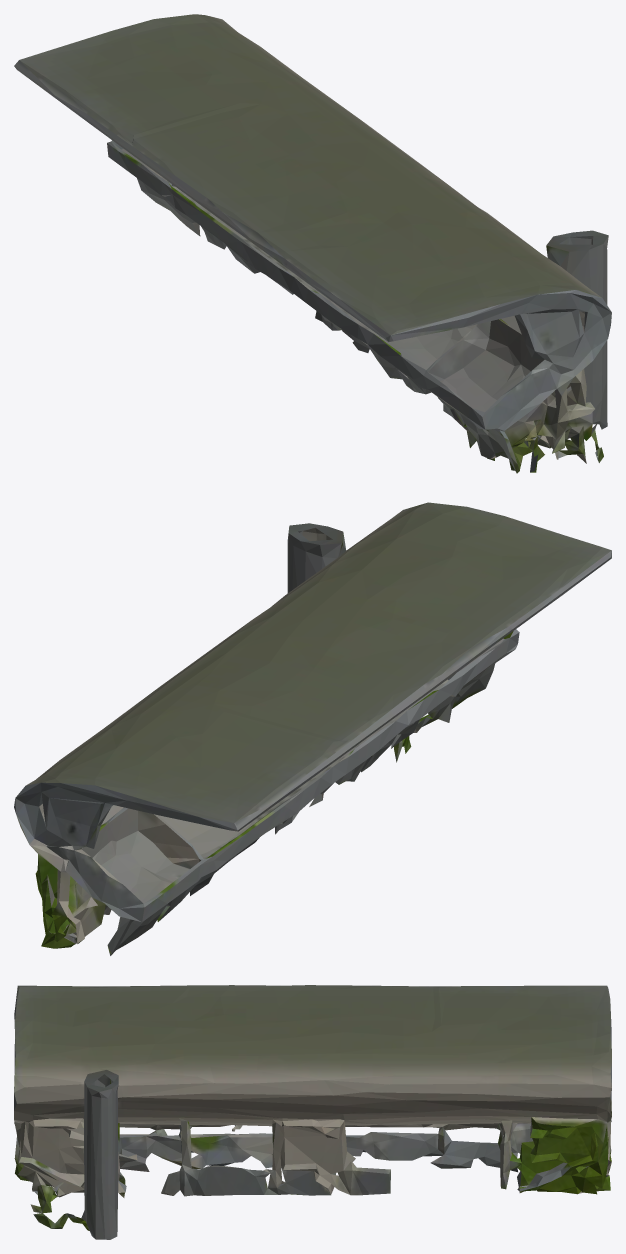
File: tribuna_catalunya.glb
The picture shows the model from 3 angles, top to bottom: view 1: azimuth 30°, elevation 25°; view 2: azimuth 150°, elevation 25°; view 3: azimuth 270°, elevation 25°; orthographic projection. The views are drawn at different scales.
Parts seen in each view (by area): view 1: tmp2vqhbdm8.ply; view 2: tmp2vqhbdm8.ply; view 3: tmp2vqhbdm8.ply.
Boxes of the visible parts, <box> form: tmp2vqhbdm8.ply: <box>14,14,611,473</box>; tmp2vqhbdm8.ply: <box>14,502,611,955</box>; tmp2vqhbdm8.ply: <box>14,985,611,1239</box>.
Bounding box in the file's own units: 0.8255 × 0.6 × 1.99.
Materials: 1 (1 with a texture image).
